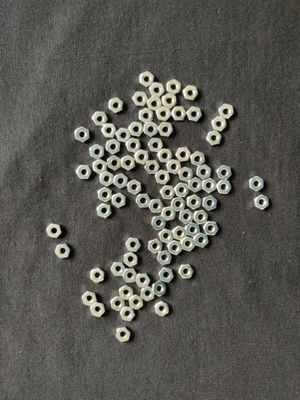nut: (149, 82, 165, 98), (183, 85, 199, 101), (82, 291, 98, 307), (140, 72, 155, 88), (162, 93, 177, 109), (109, 98, 124, 114), (92, 111, 108, 126), (187, 106, 202, 122), (157, 106, 172, 122), (139, 108, 154, 124), (75, 127, 90, 143), (158, 122, 174, 137), (249, 176, 264, 192), (254, 195, 270, 210), (148, 138, 164, 153), (90, 144, 105, 160), (191, 151, 206, 167), (176, 147, 192, 162), (167, 159, 182, 175), (178, 167, 194, 182), (155, 170, 171, 185), (187, 194, 202, 210), (97, 203, 112, 219), (55, 244, 71, 259), (151, 216, 167, 231), (168, 240, 183, 256), (159, 268, 175, 283), (90, 268, 105, 284), (90, 302, 105, 318), (116, 327, 131, 343), (157, 149, 174, 163), (133, 92, 148, 107), (219, 104, 234, 119), (212, 117, 227, 132), (207, 131, 222, 146), (129, 122, 144, 137), (116, 128, 131, 143), (126, 138, 141, 153), (217, 165, 232, 180), (217, 180, 232, 195), (135, 150, 150, 165), (197, 165, 212, 180), (145, 160, 160, 175), (175, 183, 190, 198), (161, 185, 176, 200), (203, 196, 218, 211), (171, 197, 186, 212), (98, 187, 113, 202), (149, 199, 164, 214), (161, 206, 176, 221), (179, 209, 194, 224), (194, 210, 209, 225), (204, 221, 219, 236), (194, 233, 209, 248), (173, 226, 188, 241), (159, 229, 174, 244), (181, 237, 196, 252), (157, 251, 172, 266), (126, 238, 141, 253), (179, 264, 194, 279), (111, 262, 126, 277), (111, 296, 126, 311), (167, 79, 181, 95), (144, 122, 158, 138), (102, 124, 118, 138), (106, 139, 120, 155), (122, 155, 136, 171), (93, 159, 107, 175), (189, 177, 203, 193), (114, 173, 128, 189), (136, 194, 152, 208), (185, 223, 201, 237), (152, 281, 166, 297), (155, 301, 169, 317), (148, 96, 162, 111), (172, 107, 187, 121), (203, 178, 217, 193), (128, 180, 142, 195), (100, 172, 114, 187), (112, 193, 126, 208), (47, 224, 62, 238), (149, 239, 163, 254), (124, 252, 138, 267), (123, 269, 138, 283), (136, 274, 151, 288), (141, 287, 155, 302), (120, 285, 134, 300), (129, 295, 143, 310), (120, 307, 135, 321), (76, 166, 92, 179), (108, 156, 121, 171)
